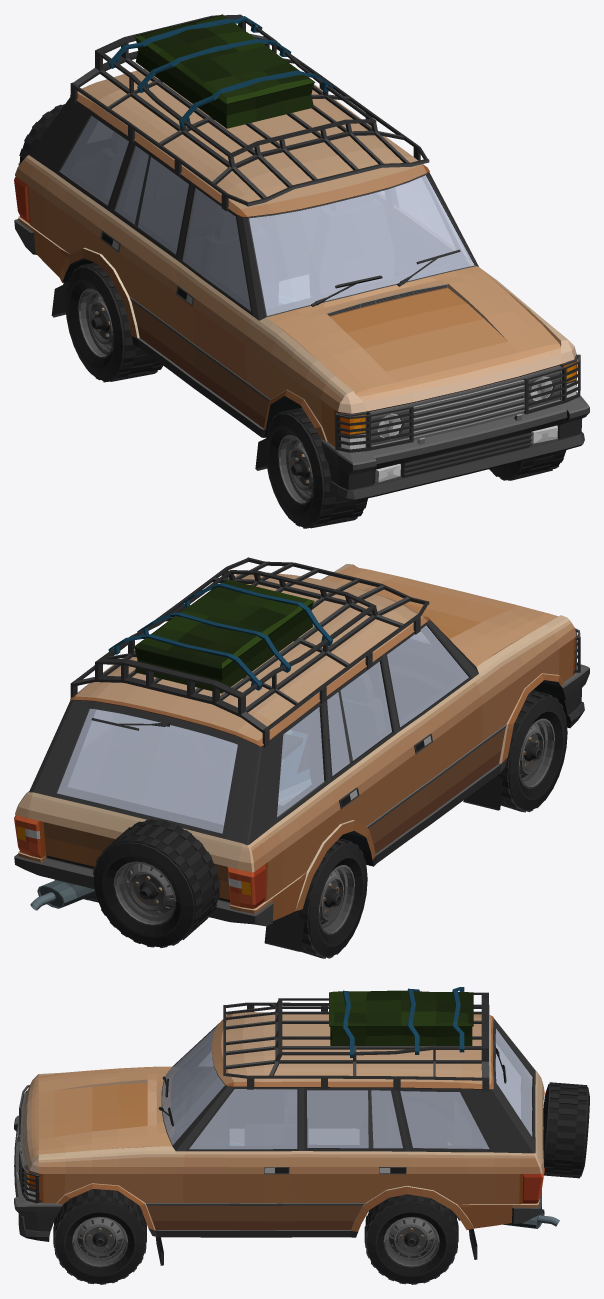
Rendered from range rover classic 1991_v2.fbx.
The picture shows the model from 3 angles, top to bottom: view 1: azimuth 30°, elevation 25°; view 2: azimuth 150°, elevation 25°; view 3: azimuth 270°, elevation 25°; orthographic projection. The views are drawn at different scales.
Parts seen in each view (by area): view 1: Car.002, Car.015, Bag, Car, Tire3, Tire4, Car.016, Car.018, Car.019, Car.003, Car.001, Tire1 (+1 smaller); view 2: Car.002, Car.015, Bag, Car, Spare Tire, Tire3, Tire4, Car.018, Car.010, Car.012, Car.011; view 3: Car.002, Car.015, Bag, Car, Tire1, Tire2, Spare Tire, Car.018, Car.016, Car.001, Car.017, Car.010.
Boxes of the visible parts, x1,y1,x2,y2 form: Car.002: (14, 68, 589, 500); Car.015: (61, 116, 469, 315); Bag: (108, 14, 332, 128); Car: (70, 14, 429, 211); Tire3: (265, 408, 367, 528); Tire4: (65, 262, 162, 382); Car.016: (309, 194, 393, 296); Car.018: (199, 210, 278, 308); Car.019: (94, 132, 174, 203); Car.003: (335, 406, 413, 452); Car.001: (523, 354, 580, 414); Tire1: (489, 450, 566, 480); Car.002: (14, 564, 589, 926); Car.015: (58, 627, 468, 832); Bag: (108, 579, 332, 693); Car: (70, 557, 429, 747); Spare Tire: (92, 819, 220, 947); Tire3: (497, 689, 567, 812); Tire4: (296, 838, 367, 958); Car.018: (309, 673, 385, 783); Car.010: (30, 880, 95, 910); Car.012: (264, 911, 304, 951); Car.011: (463, 775, 502, 810); Car.002: (14, 1012, 544, 1241); Car.015: (171, 1036, 531, 1220); Bag: (329, 987, 473, 1057); Car: (223, 992, 489, 1091); Tire1: (53, 1189, 146, 1284); Tire2: (364, 1194, 458, 1284); Spare Tire: (543, 1082, 589, 1178); Car.018: (245, 1091, 296, 1145); Car.016: (285, 1093, 296, 1144); Car.001: (19, 1150, 41, 1203); Car.017: (455, 1102, 470, 1144); Car.010: (503, 1209, 559, 1228).
Size of the model in its own units: 252 by 292 by 649.
2 materials, 1 textured.
